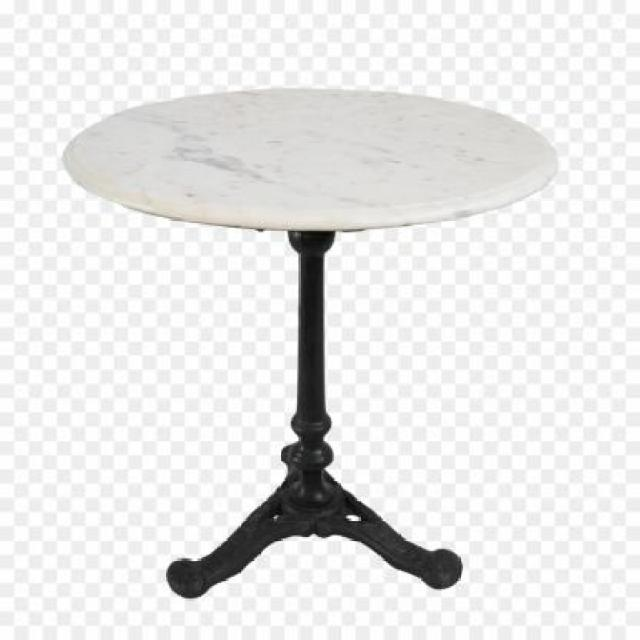table: (61, 84, 558, 613)
